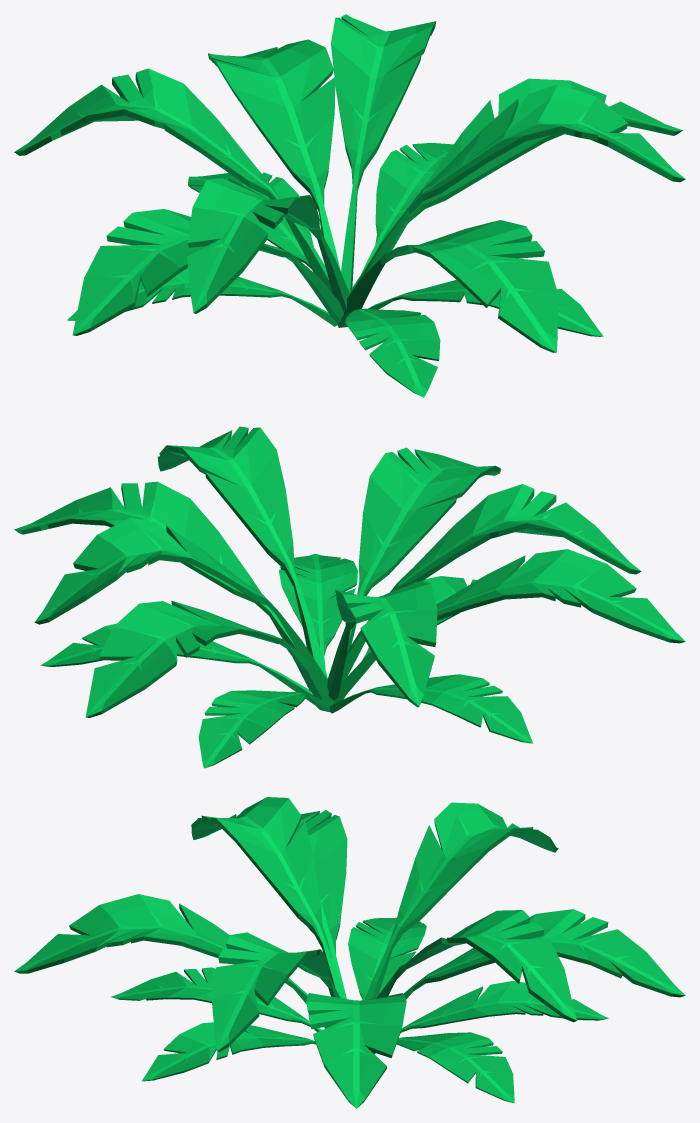
Rendered from Prop_Plant_Palmtree_Leaves.fbx.
3 views of the same model, one above another, from view 1: azimuth 30°, elevation 25°; view 2: azimuth 150°, elevation 25°; view 3: azimuth 270°, elevation 25° (orthographic). The views are drawn at different scales.
Visible parts, largest first — view 1: Model_Palmtree_Leaves; view 2: Model_Palmtree_Leaves; view 3: Model_Palmtree_Leaves.
Boxes of the visible parts, x1=… form: Model_Palmtree_Leaves: x1=14, y1=14, x2=685, y2=397; Model_Palmtree_Leaves: x1=14, y1=426, x2=685, y2=768; Model_Palmtree_Leaves: x1=14, y1=797, x2=685, y2=1108.
Size of the model in its own units: 4097 by 1272 by 4087.
